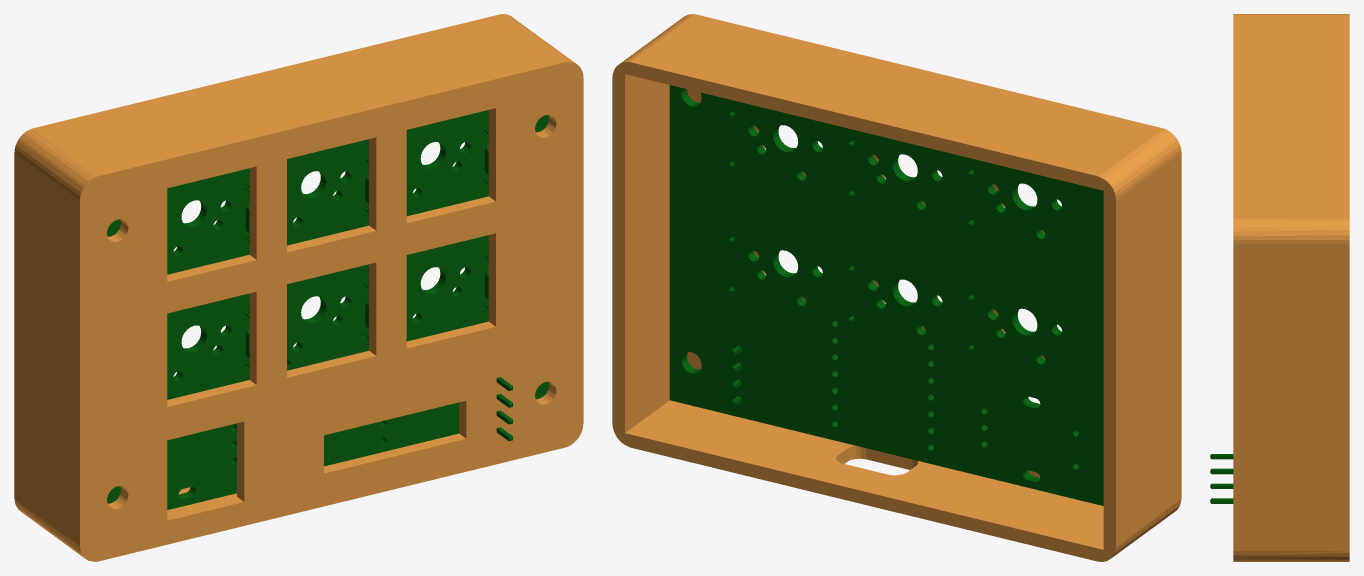
Rendered from tinker.obj.
The picture shows the model from 3 angles, left to right: view 1: azimuth 30°, elevation 25°; view 2: azimuth 150°, elevation 25°; view 3: azimuth 270°, elevation 25°; orthographic projection. The views are drawn at different scales.
Parts seen in each view (by area): view 1: obj_1, obj_0; view 2: obj_0, obj_1; view 3: obj_1, obj_0.
Part boxes in pixels (<box>): obj_1: <box>14,14,583,561</box>; obj_0: <box>107,110,549,509</box>; obj_0: <box>669,85,1103,505</box>; obj_1: <box>612,14,1181,561</box>; obj_1: <box>1233,14,1349,561</box>; obj_0: <box>1210,454,1233,503</box>.
Size of the model in its own units: 80 by 58.49 by 21.54.
